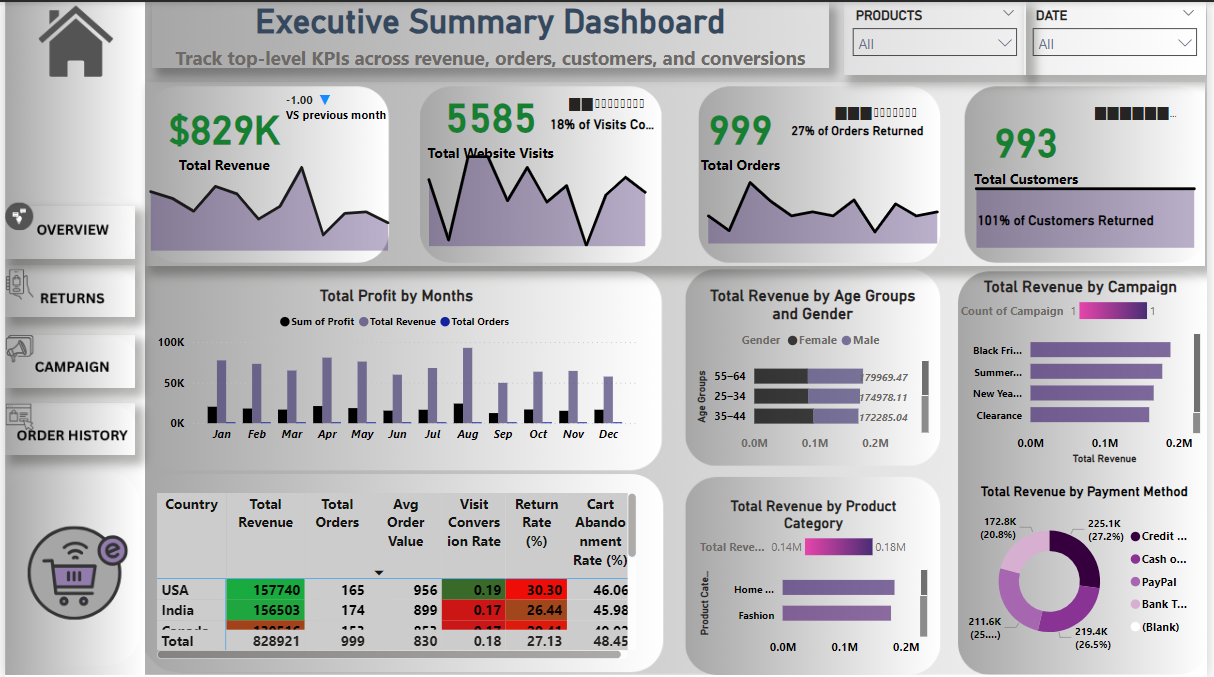

This screenshot's page, from the dashboard's own definition file:
{"tool":"powerbi","page":{"name":"Overview","canvas":[1280,720],"ordinal":0},"visuals":[{"type":"shape","box":[148.6,84.7,1129.6,196.5],"z":0},{"type":"card","title":"TOTAL REVENUE","fields":{"Values":["Fact.Total Revenue"]},"box":[138.3,78.3,188.3,126.7],"z":1000},{"type":"textbox","box":[148.3,0,1131.7,78.3],"z":2000},{"type":"lineChart","title":"Total Revenue by Month","fields":{"Y":["Fact.Overall Revenue"],"Category":["DimDate.Month Name"]},"box":[140.6,150.2,281.2,119.8],"z":3000},{"type":"card","title":"TOTAL REVENUE","fields":{"Values":["Fact.Total Orders"]},"box":[688.6,78.3,188.5,126.2],"z":4000},{"type":"card","title":"TOTAL REVENUE","fields":{"Values":["DimCustomer.Total Website Visits"]},"box":[415.4,65.5,202.9,126.2],"z":5000},{"type":"card","title":"TOTAL REVENUE","fields":{"Values":["DimCustomer.Total Customers"]},"box":[992.2,92.7,190.1,126.2],"z":6000},{"type":"card","fields":{"Values":["Conversion Funnel Table.Visit Conversion Progress"]},"box":[567.2,91.1,147,38.3],"z":7000},{"type":"multiRowCard","fields":{"Values":["Conversion Funnel Table.Visit Conversion Label"]},"box":[575.2,116.6,126.2,32],"z":8000},{"type":"lineChart","title":"Total Revenue by Month","fields":{"Y":["Fact.Total Orders"],"Category":["DimDate.Month Name"]},"box":[734.9,156.6,271.6,105.4],"z":9000},{"type":"lineChart","title":"Total Revenue by Month","fields":{"Y":["DimCustomer.Total Website Visits"],"Category":["DimDate.Month Name"]},"box":[437.8,145.4,257.2,119.8],"z":10000},{"type":"card","fields":{"Values":["Conversion Funnel Table.Return Rate Progress"]},"box":[824.4,94.3,206.1,49.5],"z":11000},{"type":"multiRowCard","fields":{"Values":["Conversion Funnel Table.Return Description"]},"box":[832.4,124.6,174.1,41.5],"z":12000},{"type":"card","fields":{"Values":["DimCustomer.Return Customer Progress"]},"box":[1155.1,103.8,97.5,32],"z":13000},{"type":"lineChart","title":"Total Revenue by Month","fields":{"Y":["DimCustomer.Total Customers"],"Category":["DimDate.Month Name"]},"box":[1021.2,151.8,258.8,115],"z":14000},{"type":"lineClusteredColumnComboChart","title":"Total Profit by Months","fields":{"Y":["Sum(Fact.Profit)","Fact.Total Revenue","Fact.Total Orders"],"Category":["DimDate.Month Name MMM"]},"box":[156.6,302,520.8,185.3],"z":15000},{"type":"barChart","fields":{"Category":["Fact.Age Groups"],"Y":["Fact.Total Revenue"],"Series":["DimCustomer.Gender"]},"box":[731.7,302,257.2,185.3],"z":16000},{"type":"barChart","fields":{"Category":["DimCampaign.Campaign"],"Y":["Fact.Total Revenue"]},"box":[1012.9,292.4,265.2,204.5],"z":17000},{"type":"donutChart","fields":{"Y":["Fact.Total Revenue"],"Category":["DimPaymentMethod.Payment Method"]},"box":[1020.9,512.9,257.2,191.7],"z":18000},{"type":"barChart","fields":{"Y":["Fact.Total Revenue"],"Category":["DimProductCategory.Product Category"]},"box":[734.9,527.2,252.4,177.3],"z":19000},{"type":"pivotTable","fields":{"Rows":["DimLocation.Country"],"Values":["Fact.Total Revenue","Fact.Total Orders","Fact.Average Order Value","DimCustomer.Visit Conversion Rate","Fact.Return Rate (%)","Fact.Cart Abandonment Rate (%)"]},"box":[156.6,517.6,520.8,186.9],"z":20000},{"type":"slicer","fields":{"Values":["DimProductCategory.Product Category"]},"box":[893.1,0,194.9,78.3],"z":21000},{"type":"slicer","fields":{"Values":["DimDate.Year","DimDate.Month "]},"box":[1084.8,0,194.9,78.3],"z":22000},{"type":"textbox","title":"Executive Summary Dashboard","box":[156.6,0,720.5,70.3],"z":23000},{"type":"multiRowCard","fields":{"Values":["DimCustomer.Customer KPI Description"]},"box":[1030.5,218.9,218.9,51.1],"z":24000},{"type":"actionButton","box":[0,0,140,92],"z":25000},{"type":"actionButton","box":[0,218,138,56],"z":26000},{"type":"actionButton","box":[0,280,138,56],"z":27000},{"type":"actionButton","box":[0,354,138,56],"z":28000},{"type":"actionButton","box":[0,426,138,56],"z":29000},{"type":"multiRowCard","fields":{"Values":["DimLocation.Revenue MoM % Change"]},"box":[294,91.1,127.8,62.3],"z":30000},{"type":"multiRowCard","fields":{"Values":["DimLocation.Revenue Trend Arrow"]},"box":[327.8,91.1,31.1,26.7],"z":31000}]}

Visuals, with their boxes in screenshot pixels (x1, y1, x2, y2), scaled from the page's 1280x720 canvas onto the 1214x677 screenshot:
shape: [141,80,1212,264]
"TOTAL REVENUE" card: [131,74,310,193]
textbox: [141,0,1213,74]
"Total Revenue by Month" lineChart: [133,141,400,254]
"TOTAL REVENUE" card: [653,74,832,192]
"TOTAL REVENUE" card: [394,62,586,180]
"TOTAL REVENUE" card: [941,87,1121,206]
card - Conversion Funnel Table.Visit Conversion Progress: [538,86,677,122]
multiRowCard - Conversion Funnel Table.Visit Conversion Label: [546,110,665,140]
"Total Revenue by Month" lineChart: [697,147,955,246]
"Total Revenue by Month" lineChart: [415,137,659,249]
card - Conversion Funnel Table.Return Rate Progress: [782,89,977,135]
multiRowCard - Conversion Funnel Table.Return Description: [789,117,955,156]
card - DimCustomer.Return Customer Progress: [1096,98,1188,128]
"Total Revenue by Month" lineChart: [969,143,1213,251]
"Total Profit by Months" lineClusteredColumnComboChart: [149,284,642,458]
barChart - Fact.Age Groups x Fact.Total Revenue: [694,284,938,458]
barChart - DimCampaign.Campaign x Fact.Total Revenue: [961,275,1212,467]
donutChart - Fact.Total Revenue x DimPaymentMethod.Payment Method: [968,482,1212,663]
barChart - Fact.Total Revenue x DimProductCategory.Product Category: [697,496,936,662]
pivotTable - DimLocation.Country x Fact.Total Revenue: [149,487,642,662]
slicer - DimProductCategory.Product Category: [847,0,1032,74]
slicer - DimDate.Year x DimDate.Month : [1029,0,1213,74]
"Executive Summary Dashboard" textbox: [149,0,832,66]
multiRowCard - DimCustomer.Customer KPI Description: [977,206,1185,254]
actionButton: [0,0,133,87]
actionButton: [0,205,131,258]
actionButton: [0,263,131,316]
actionButton: [0,333,131,386]
actionButton: [0,401,131,453]
multiRowCard - DimLocation.Revenue MoM % Change: [279,86,400,144]
multiRowCard - DimLocation.Revenue Trend Arrow: [311,86,340,111]
